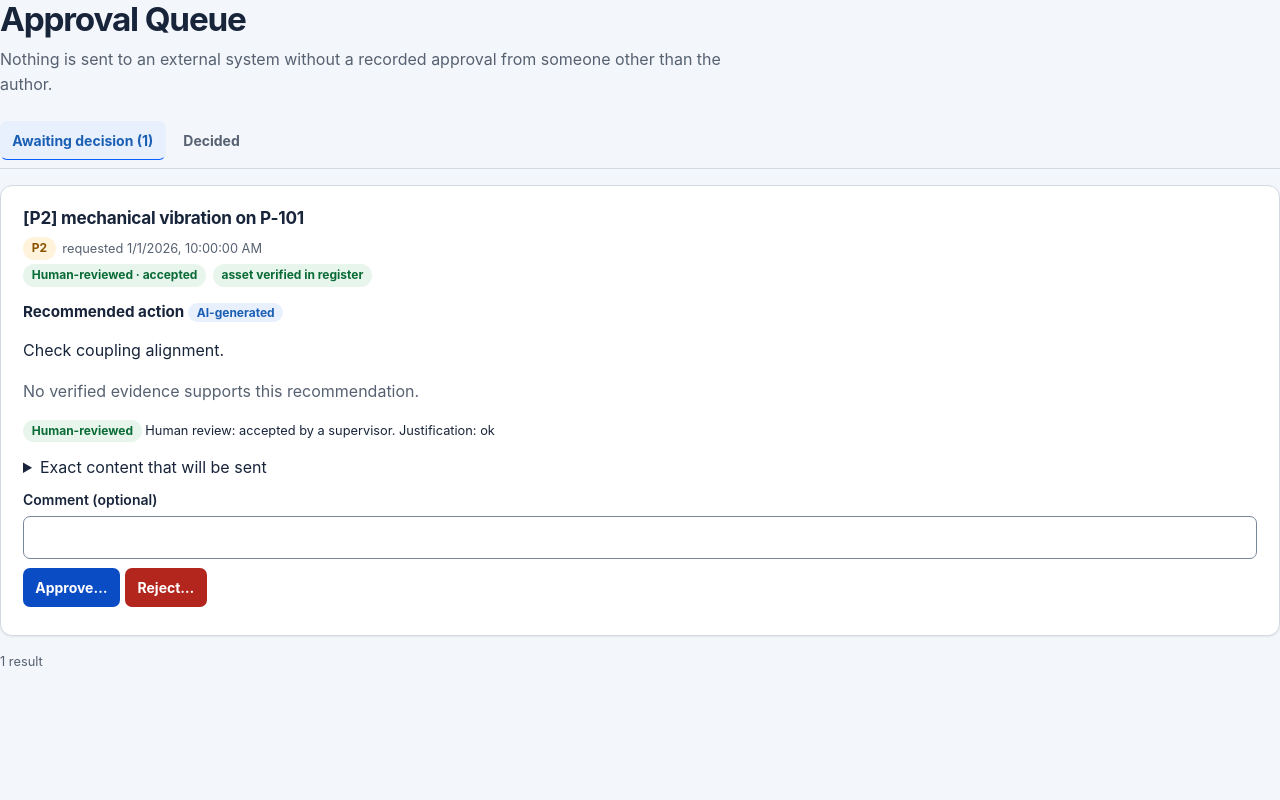
it: ApprovalsPage › shows context, distinguishes human review from AI text, and requires confirmation before approving
Expected: the text "Human-reviewed" is shown, [23, 420, 142, 442]
Expected: the text "AI-generated" is shown, [188, 304, 284, 322]
Click the button "Approve…". click: (71, 587)
box: [23, 568, 120, 607]
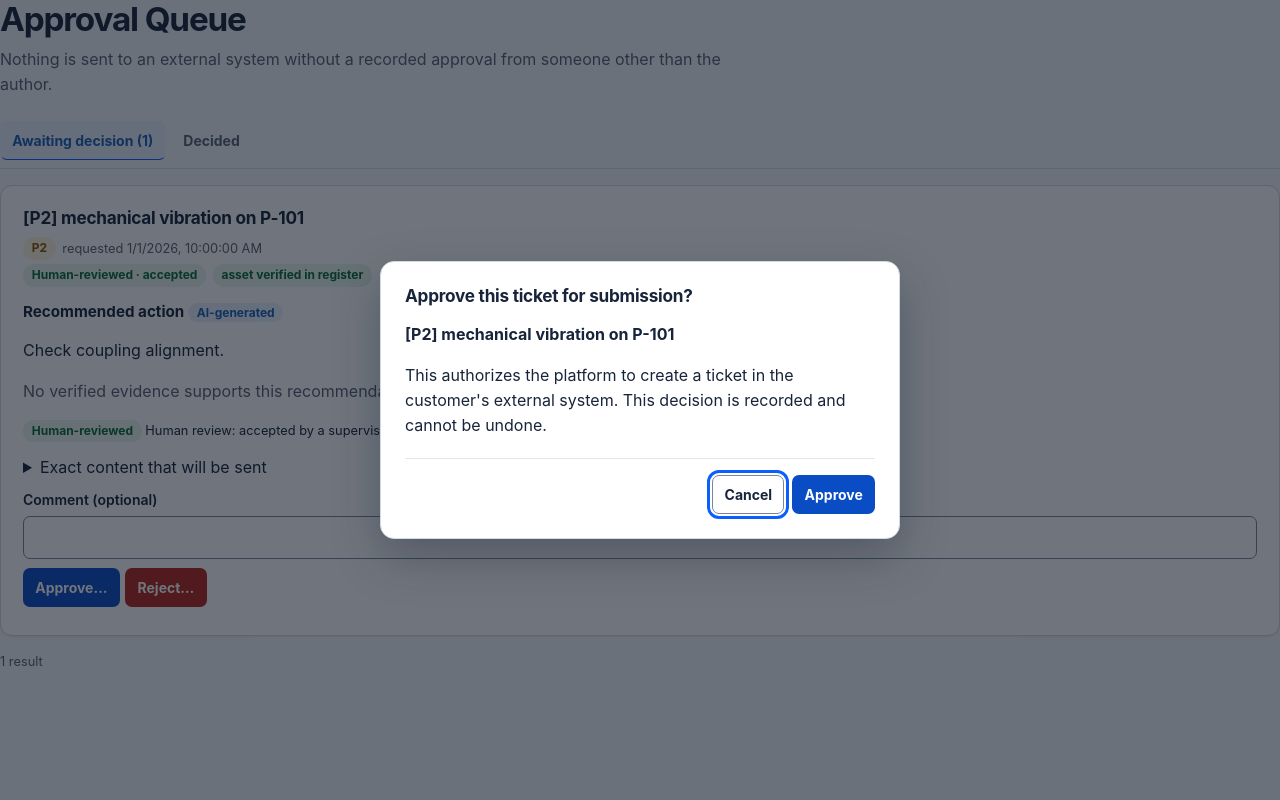
Click the button "Approve". click: (834, 494)
box: [792, 475, 875, 514]
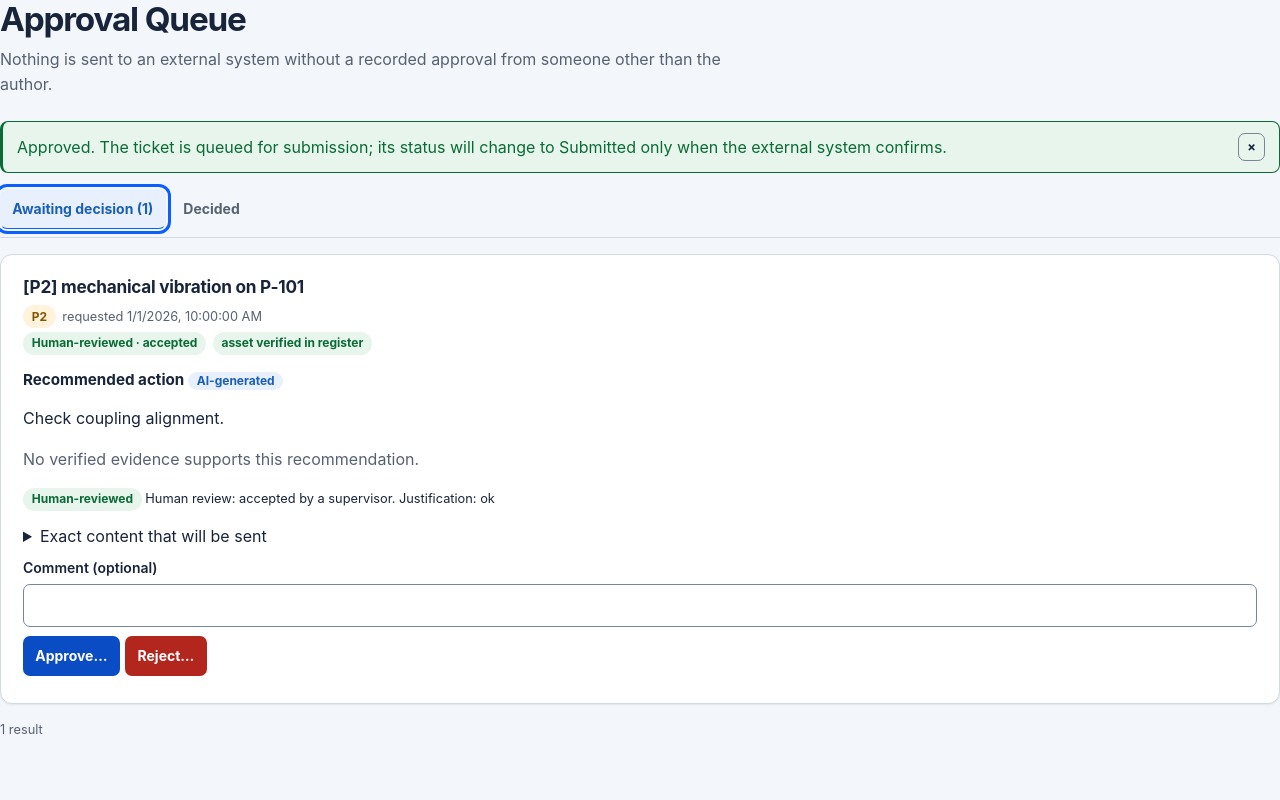
Expected: the text "only when the external system confirms" is shown, [17, 136, 947, 156]
